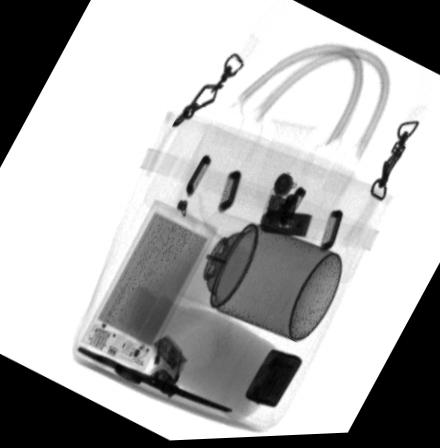Lighter: (243, 351, 304, 410)
Powerbank: (79, 201, 216, 373)
Scissors: (76, 347, 231, 417)
Sprayer: (176, 214, 341, 342)
